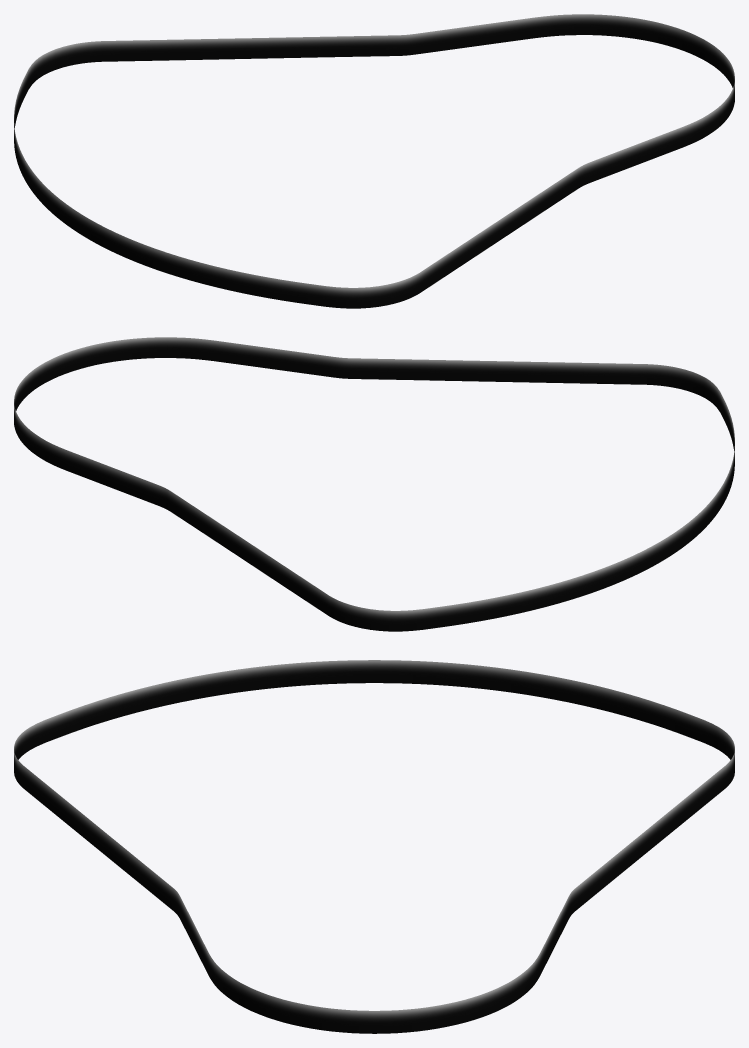
The model's file is CD_JZ_vr_Deco01_emiblending.FBX.
3 renders of one model, top to bottom at view 1: azimuth 30°, elevation 25°; view 2: azimuth 150°, elevation 25°; view 3: azimuth 270°, elevation 25°, orthographic. The views are drawn at different scales.
Parts seen in each view (by area): view 1: CD_JZ_vr_Deco01_emiblending; view 2: CD_JZ_vr_Deco01_emiblending; view 3: CD_JZ_vr_Deco01_emiblending.
Boxes of the visible parts, <box> form: CD_JZ_vr_Deco01_emiblending: <box>14,14,734,308</box>; CD_JZ_vr_Deco01_emiblending: <box>14,337,734,631</box>; CD_JZ_vr_Deco01_emiblending: <box>14,660,734,1033</box>.
Size of the model in its own units: 3674 by 112 by 3191.
